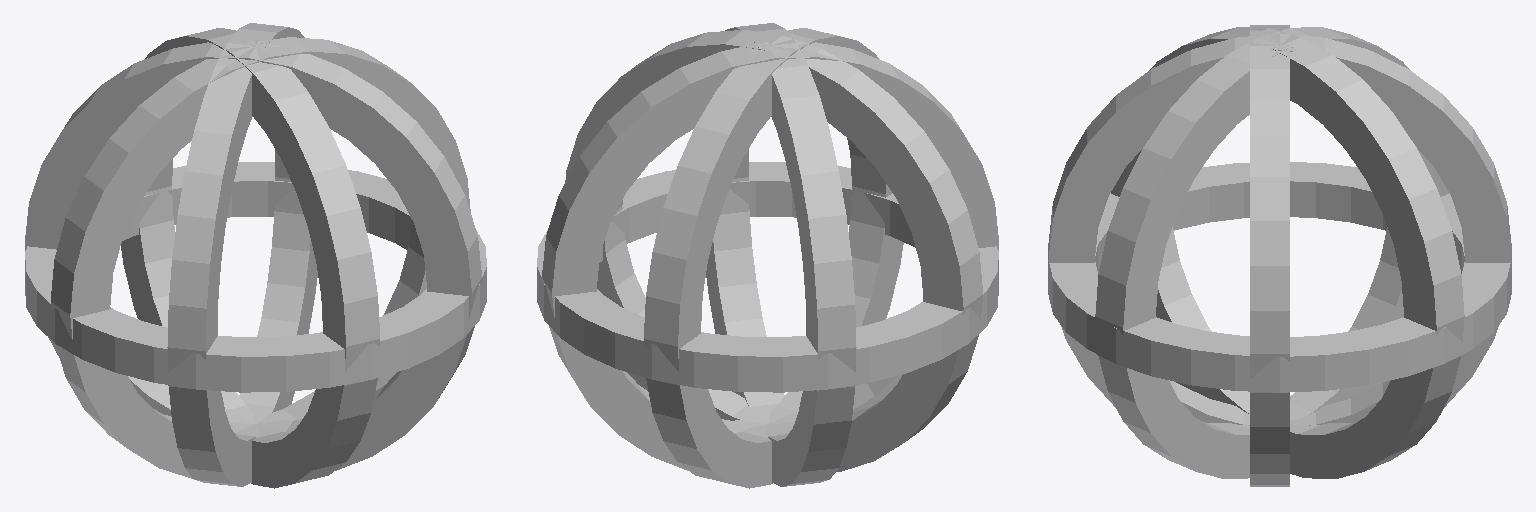
File: test_ring.obj
3 renders of one model, left to right at view 1: azimuth 30°, elevation 25°; view 2: azimuth 150°, elevation 25°; view 3: azimuth 270°, elevation 25°, orthographic.
Parts seen in each view (by area): view 1: Circle; view 2: Circle; view 3: Circle.
Part boxes in pixels (x1,y1,x2,y2): Circle: (25,23,486,488); Circle: (537,23,998,488); Circle: (1048,25,1511,486).
Bounding box in the file's own units: 2 × 2 × 2.